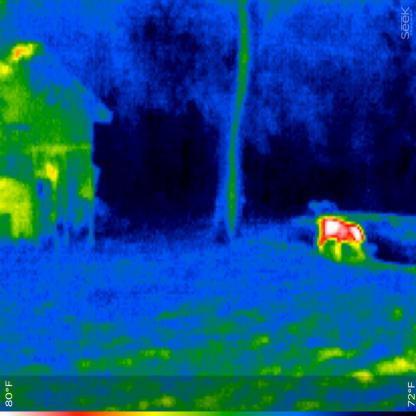dog: (311, 212, 369, 264)
